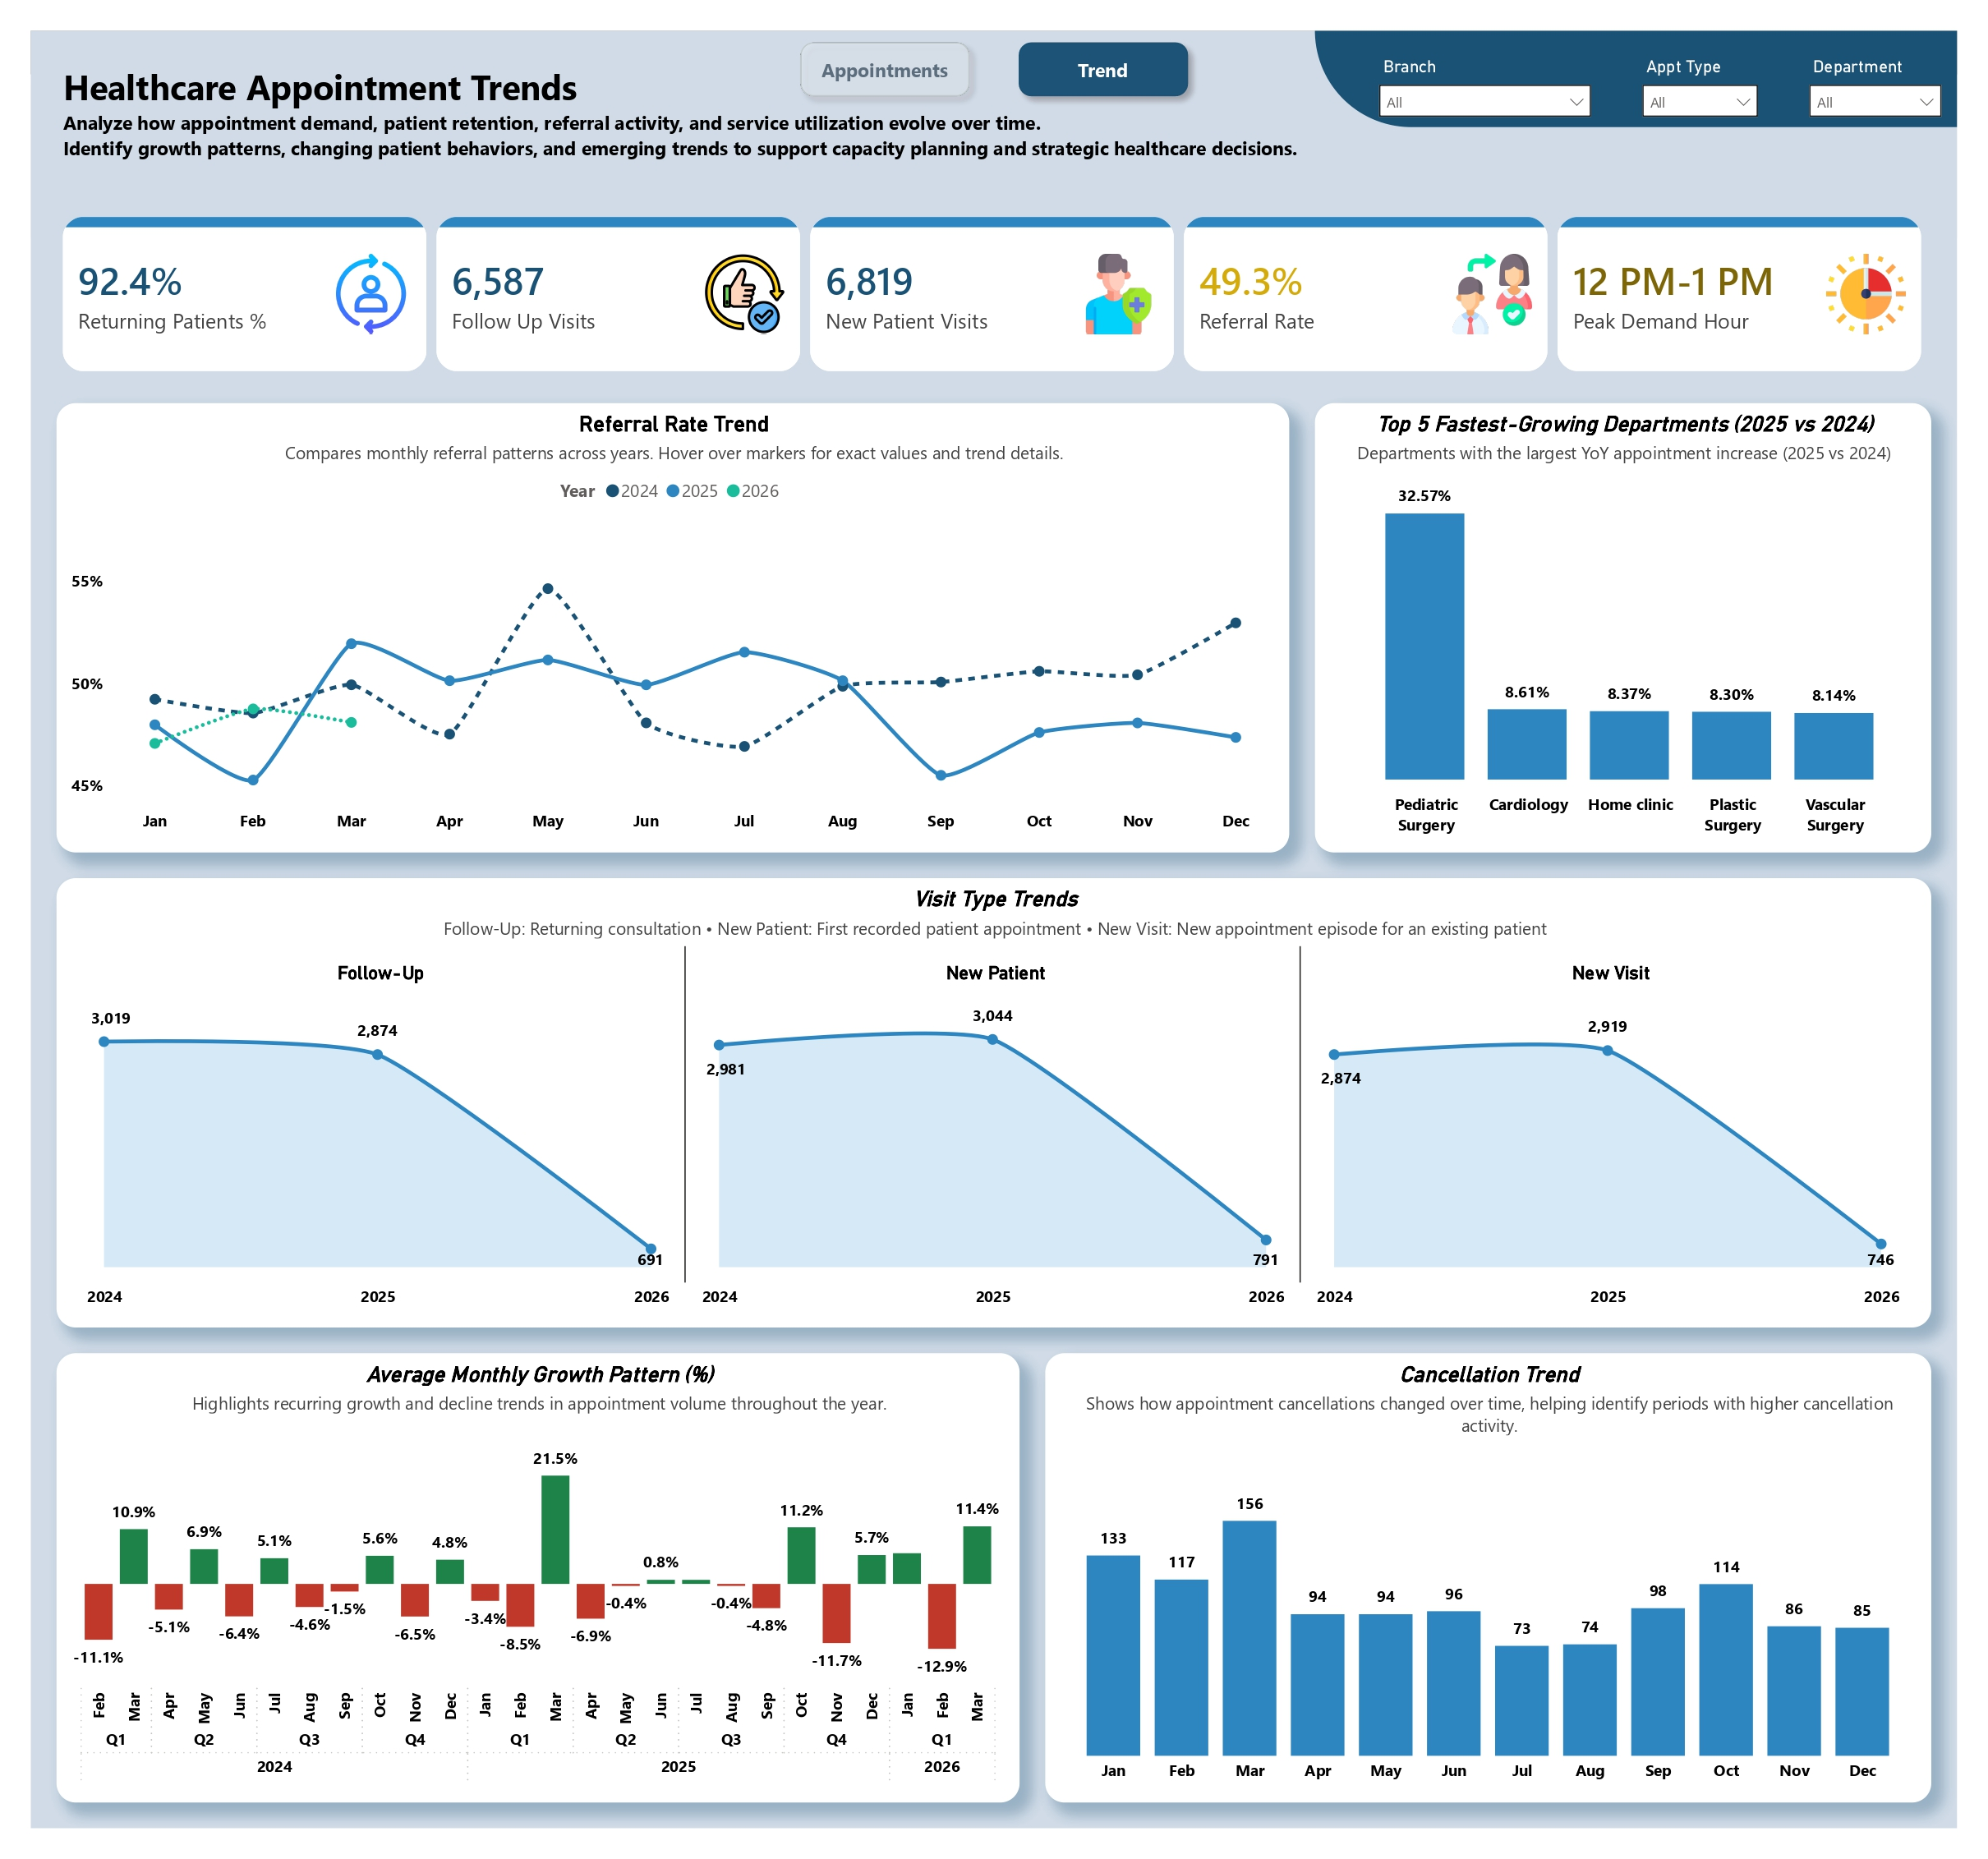

What the dashboard file says about the page in this screenshot:
{"tool":"powerbi","page":{"name":"Trends","canvas":[1500,1400],"ordinal":1},"visuals":[{"type":"slicer","fields":{"Values":["Departments.DepartmentTitle"]},"box":[1375,15,123,60],"z":0,"group":"g1"},{"type":"textbox","box":[20,20,980,100],"z":0},{"type":"actionButton","box":[590,0,150,60],"z":1000,"group":"g3"},{"type":"slicer","fields":{"Values":["Branches.BranchName"]},"box":[1040,15,185,60],"z":1000,"group":"g1"},{"type":"lineChart","title":"Referral Rate Trend","fields":{"Category":["Calendar Table.MonthName"],"Y":["_Measures.Referral Rate"],"Series":["Calendar Table.Year"]},"box":[20,290,960,350],"z":2000},{"type":"actionButton","box":[760,0,150,60],"z":3000,"group":"g3"},{"type":"shape","box":[1000,0,500,75],"z":4000,"group":"g2"},{"type":"columnChart","title":"Top 5 Fastest-Growing Departments (2025 vs 2024)","fields":{"Category":["Departments.DepartmentTitle"],"Y":["_Measures.YoY (2024 V 2025)"]},"box":[1000,290,480,350],"z":4000},{"type":"slicer","fields":{"Values":["AddedManually.description"]},"box":[1245,15,110,60],"z":4001,"group":"g1"},{"type":"group","id":"g1","title":"Group 1","box":[1040,15,458,60],"z":4502,"group":"g2"},{"type":"columnChart","title":"Average Monthly Growth Pattern (%)","fields":{"Category":["Calendar Table.Year","Calendar Table.QuarterName","Calendar Table.MonthName"],"Y":["_Measures.Appts MoM %"]},"box":[20,1030,750,350],"z":5000},{"type":"columnChart","title":"Cancellation Trend","fields":{"Category":["Calendar Table.Year","Calendar Table.MonthName","Calendar Table.Day"],"Y":["_Measures.Cancelled Appointments"]},"box":[790,1030,690,350],"z":8000},{"type":"cardVisual","fields":{"Data":["_Measures.Returning Patients","_Measures.Follow Up Visits","_Measures.New Patient Visits","_Measures.Referral Rate","_Measures.Peak Appointment Hours"]},"box":[20,140,1460,130],"z":9000},{"type":"group","id":"g2","title":"Group 2","box":[1000,0,500,75],"z":10000},{"type":"lineChart","title":"Visit Type Trends","fields":{"Y":["_Measures.Total Appointments"],"Rows":["VisitType.description"],"Category":["Calendar Table.Year","Calendar Table.MonthName"]},"box":[20,660,1460,350],"z":10500},{"type":"group","id":"g3","title":"Group 3","box":[590,0,320,60],"z":11001}]}

Visuals, with their boxes in screenshot pixels (x1, y1, x2, y2), scaled from the page's 1500x1400 canvas onto the 1988x1859 screenshot:
slicer - Departments.DepartmentTitle: locate(1822, 20, 1986, 99)
textbox: locate(26, 26, 1325, 159)
actionButton: locate(782, 0, 981, 80)
slicer - Branches.BranchName: locate(1378, 20, 1623, 99)
"Referral Rate Trend" lineChart: locate(26, 385, 1299, 850)
actionButton: locate(1007, 0, 1206, 80)
shape: locate(1325, 0, 1987, 99)
"Top 5 Fastest-Growing Departments (2025 vs 2024)" columnChart: locate(1325, 385, 1962, 850)
slicer - AddedManually.description: locate(1650, 20, 1796, 99)
"Group 1" group: locate(1378, 20, 1986, 99)
"Average Monthly Growth Pattern (%)" columnChart: locate(26, 1368, 1020, 1833)
"Cancellation Trend" columnChart: locate(1047, 1368, 1962, 1833)
cardVisual - _Measures.Returning Patients x _Measures.Follow Up Visits: locate(26, 186, 1962, 358)
"Group 2" group: locate(1325, 0, 1987, 99)
"Visit Type Trends" lineChart: locate(26, 877, 1962, 1341)
"Group 3" group: locate(782, 0, 1206, 80)
